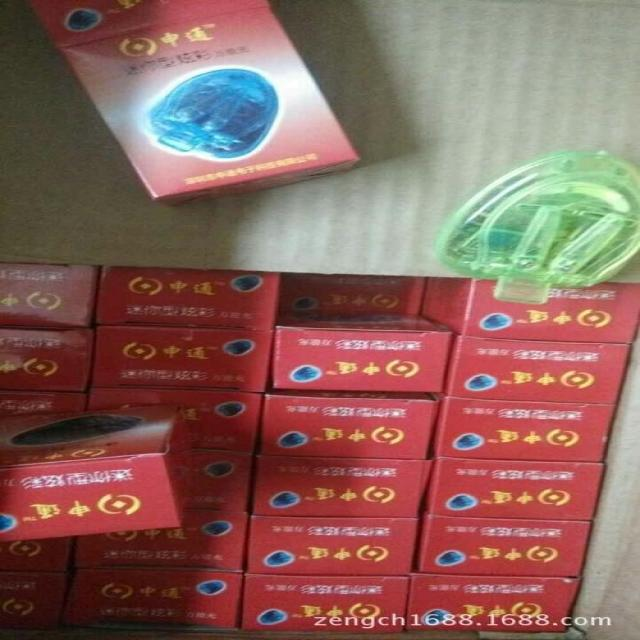box: (63, 4, 360, 203), (0, 404, 204, 542), (421, 277, 639, 346), (271, 315, 452, 392), (254, 386, 447, 456), (94, 265, 285, 333), (444, 334, 632, 403), (436, 394, 615, 461), (29, 1, 271, 50), (94, 328, 276, 392), (413, 511, 588, 577), (252, 454, 437, 516), (428, 457, 601, 523), (245, 513, 421, 576), (76, 507, 254, 569), (73, 565, 250, 627), (85, 388, 261, 450), (400, 573, 586, 630), (245, 570, 413, 633), (0, 324, 103, 392), (0, 263, 105, 328), (282, 274, 426, 319), (189, 445, 263, 515), (0, 571, 79, 625), (0, 383, 88, 416), (0, 537, 73, 572)
